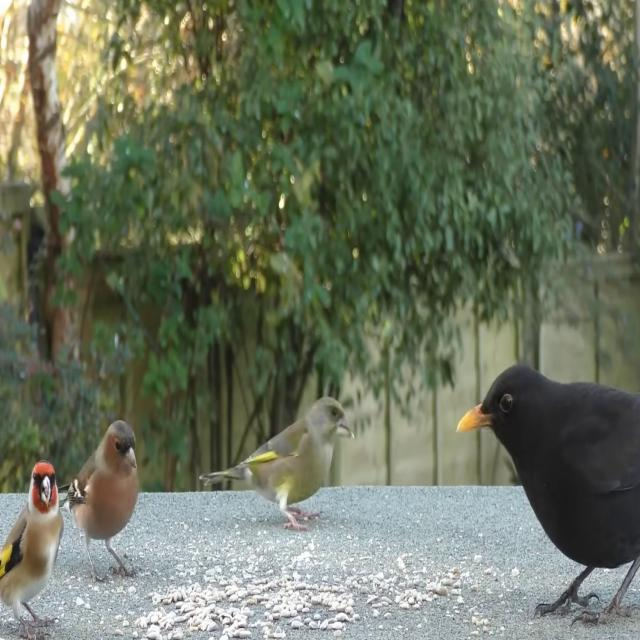beak: (454, 390, 492, 440), (334, 408, 352, 441), (122, 445, 138, 470), (42, 477, 52, 505)
bird: (457, 362, 640, 640), (205, 392, 358, 531), (54, 421, 140, 586), (0, 451, 62, 640)
